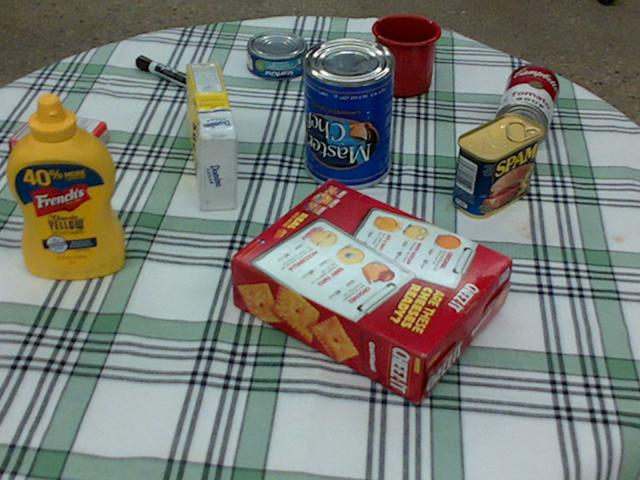cracker_box: (230, 179, 511, 403)
gelatin_box: (10, 112, 107, 171)
large_marker: (136, 55, 206, 94)
master_chef_can: (302, 37, 395, 188)
mug: (373, 14, 442, 96)
mustard_bottle: (6, 94, 124, 277)
potted_meat_can: (452, 114, 541, 218)
sugar_box: (186, 63, 236, 210)
tomato_soup_can: (493, 65, 559, 148)
tuna_fish_can: (247, 31, 307, 79)
